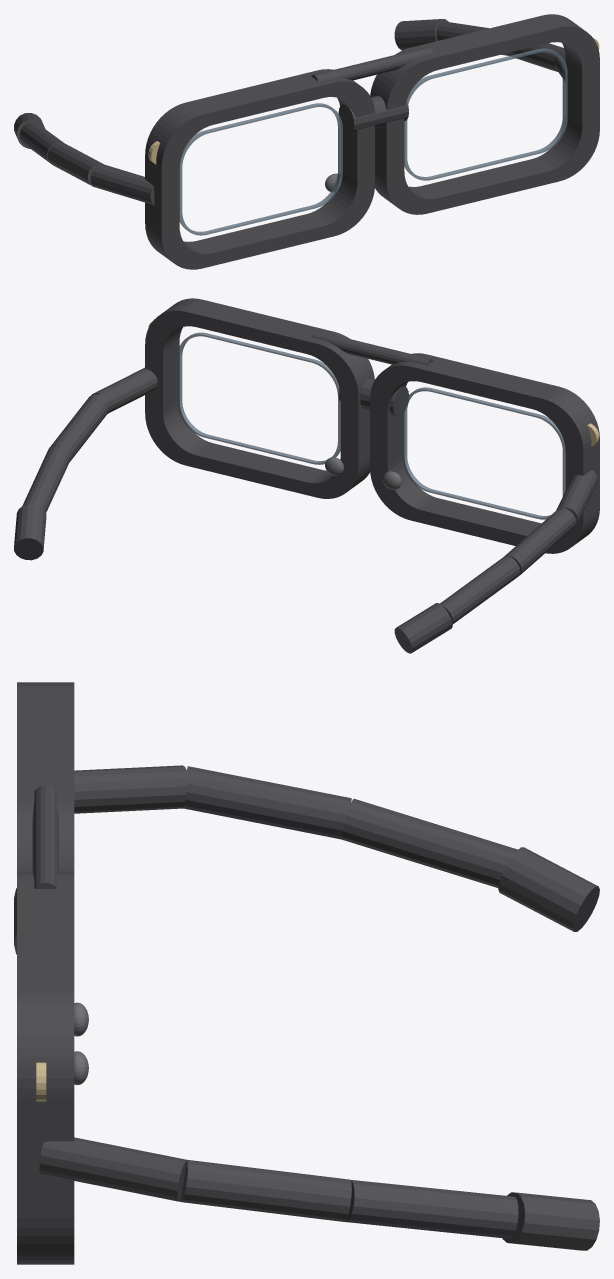
File: classic_wayfarer.glb
3 views of the same model, one above another, from view 1: azimuth 30°, elevation 25°; view 2: azimuth 150°, elevation 25°; view 3: azimuth 270°, elevation 25° (orthographic). The views are drawn at different scales.
Parts seen in each view (by area): view 1: left_bold_wayfarer_rim, right_bold_wayfarer_rim, left_smoke_lens, right_smoke_lens, left_temple_arm_0, top_brow_bar, wide_bridge, left_temple_arm_1, right_ear_tip, left_temple_arm_2, right_temple_arm_1, right_temple_arm_2 (+1 smaller); view 2: right_bold_wayfarer_rim, left_bold_wayfarer_rim, right_smoke_lens, left_temple_arm_2, left_smoke_lens, left_temple_arm_1, right_temple_arm_1, left_ear_tip, right_temple_arm_2, top_brow_bar, right_ear_tip, right_temple_arm_0 (+2 smaller); view 3: right_bold_wayfarer_rim, left_bold_wayfarer_rim, right_temple_arm_1, left_temple_arm_2, right_temple_arm_2, left_temple_arm_1, right_temple_arm_0, left_temple_arm_0, left_ear_tip, right_ear_tip, top_brow_bar.
Part boxes in pixels (x1=…): left_bold_wayfarer_rim: x1=145, y1=69, x2=374, y2=269; right_bold_wayfarer_rim: x1=370, y1=14, x2=599, y2=214; left_smoke_lens: x1=179, y1=103, x2=342, y2=235; right_smoke_lens: x1=404, y1=48, x2=567, y2=180; left_temple_arm_0: x1=90, y1=163, x2=154, y2=205; top_brow_bar: x1=311, y1=46, x2=433, y2=81; wide_bridge: x1=338, y1=95, x2=408, y2=134; left_temple_arm_1: x1=47, y1=142, x2=103, y2=187; right_ear_tip: x1=394, y1=19, x2=448, y2=50; left_temple_arm_2: x1=19, y1=122, x2=63, y2=162; right_temple_arm_1: x1=505, y1=43, x2=564, y2=71; right_temple_arm_2: x1=436, y1=21, x2=506, y2=55; right_bold_wayfarer_rim: x1=145, y1=298, x2=374, y2=498; left_bold_wayfarer_rim: x1=370, y1=353, x2=599, y2=553; right_smoke_lens: x1=177, y1=332, x2=340, y2=464; left_temple_arm_2: x1=440, y1=555, x2=520, y2=624; left_smoke_lens: x1=402, y1=387, x2=565, y2=519; left_temple_arm_1: x1=504, y1=507, x2=576, y2=574; right_temple_arm_1: x1=49, y1=394, x2=109, y2=462; left_ear_tip: x1=394, y1=603, x2=452, y2=653; right_temple_arm_2: x1=22, y1=446, x2=70, y2=512; top_brow_bar: x1=311, y1=331, x2=433, y2=365; right_ear_tip: x1=14, y1=504, x2=46, y2=560; right_temple_arm_0: x1=92, y1=367, x2=157, y2=413; right_bold_wayfarer_rim: x1=17, y1=872, x2=74, y2=1264; left_bold_wayfarer_rim: x1=17, y1=682, x2=74, y2=871; right_temple_arm_1: x1=180, y1=1160, x2=351, y2=1221; left_temple_arm_2: x1=342, y1=798, x2=517, y2=888; right_temple_arm_2: x1=346, y1=1180, x2=518, y2=1238; left_temple_arm_1: x1=182, y1=766, x2=351, y2=839; right_temple_arm_0: x1=39, y1=1137, x2=186, y2=1201; left_temple_arm_0: x1=74, y1=765, x2=188, y2=813; left_ear_tip: x1=498, y1=847, x2=599, y2=931; right_ear_tip: x1=502, y1=1192, x2=599, y2=1250; top_brow_bar: x1=32, y1=785, x2=58, y2=888.
Bounding box in the file's own units: 3.39 × 1.05 × 2.04.
